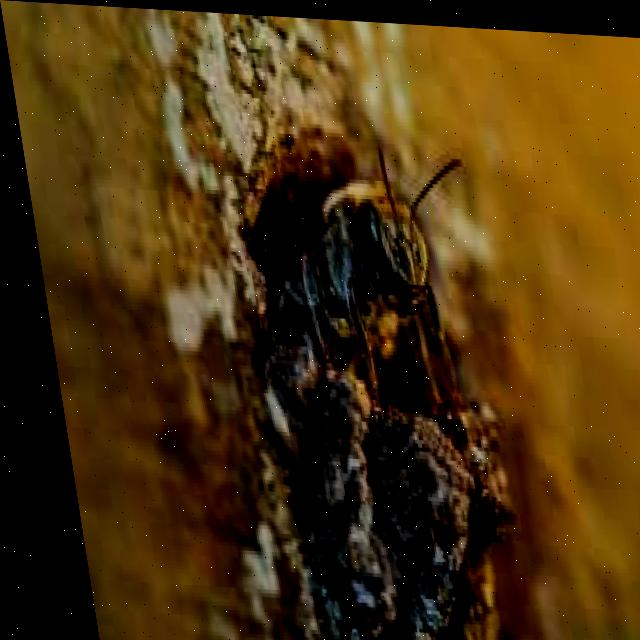Meliponula: (223, 125, 467, 387)
